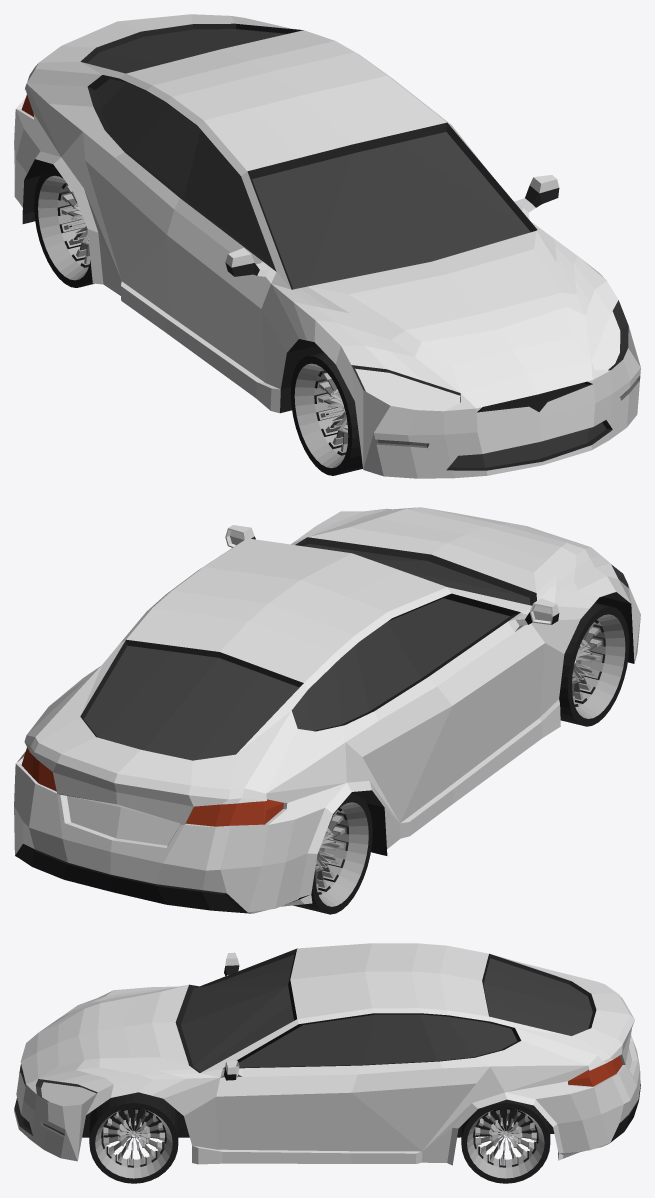
The model's file is teslamodelsplaid.fbx.
3 views of the same model, one above another, from view 1: azimuth 30°, elevation 25°; view 2: azimuth 150°, elevation 25°; view 3: azimuth 270°, elevation 25° (orthographic). The views are drawn at different scales.
Visible parts, largest first — view 1: WhiteBody, FrontRight, BackRight; view 2: WhiteBody, FrontRight, BackRight; view 3: WhiteBody, FrontLeft, BackLeft.
Part boxes in pixels (<box>): WhiteBody: <box>14,14,640,478</box>; FrontRight: <box>290,352,362,475</box>; BackRight: <box>34,167,94,287</box>; WhiteBody: <box>14,507,640,913</box>; FrontRight: <box>559,603,629,726</box>; BackRight: <box>293,793,372,914</box>; WhiteBody: <box>14,943,640,1165</box>; FrontLeft: <box>89,1092,178,1183</box>; BackLeft: <box>461,1099,550,1183</box>.
Size of the model in its own units: 2.18 by 4.98 by 1.43.
